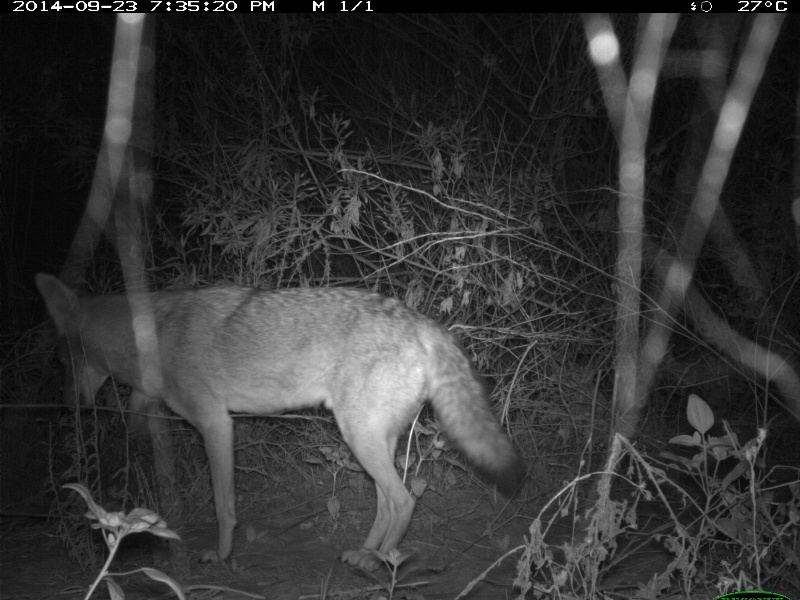coyote: (33, 269, 528, 575)
